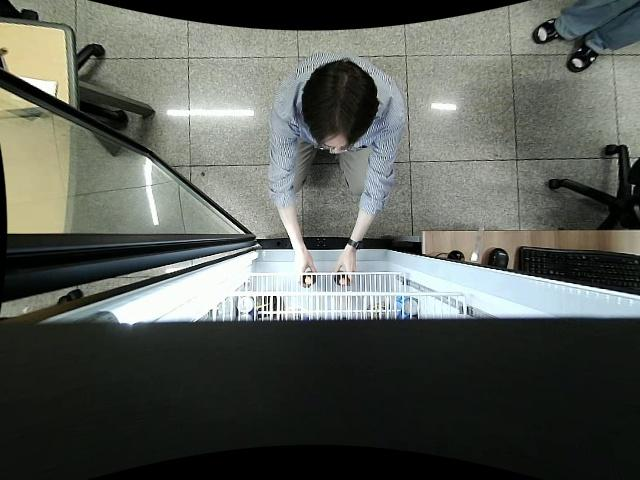00_hand: (293, 255, 318, 284), (335, 256, 355, 283)
17_vita500: (334, 272, 349, 288), (301, 274, 315, 287)
